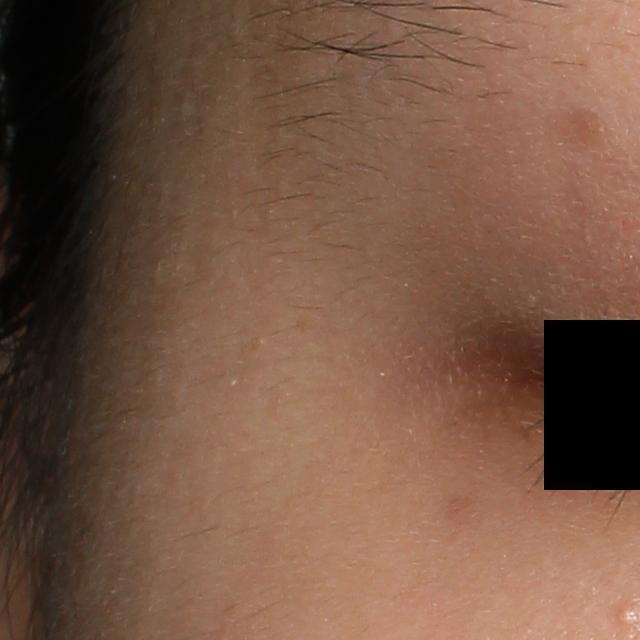melasma: (542, 103, 608, 168), (440, 486, 487, 549)
